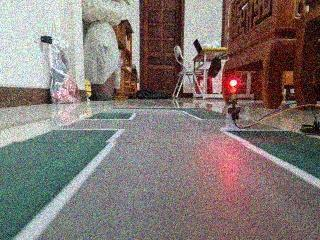red: (221, 73, 244, 115)
